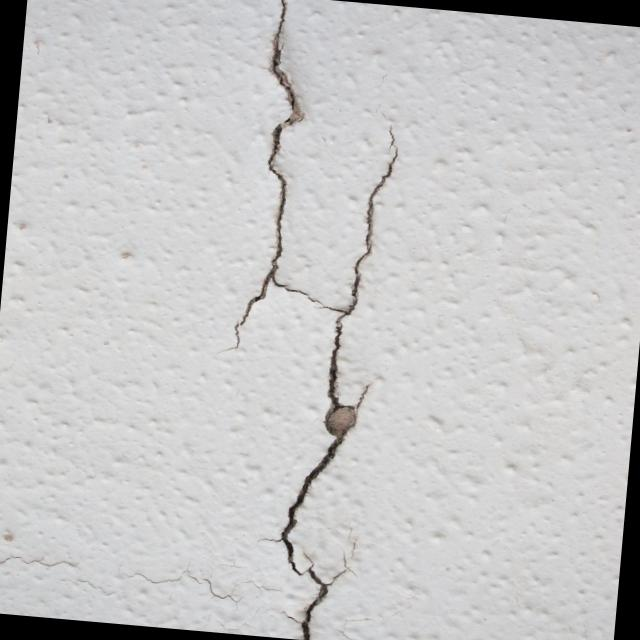crack: (231, 0, 404, 640)
